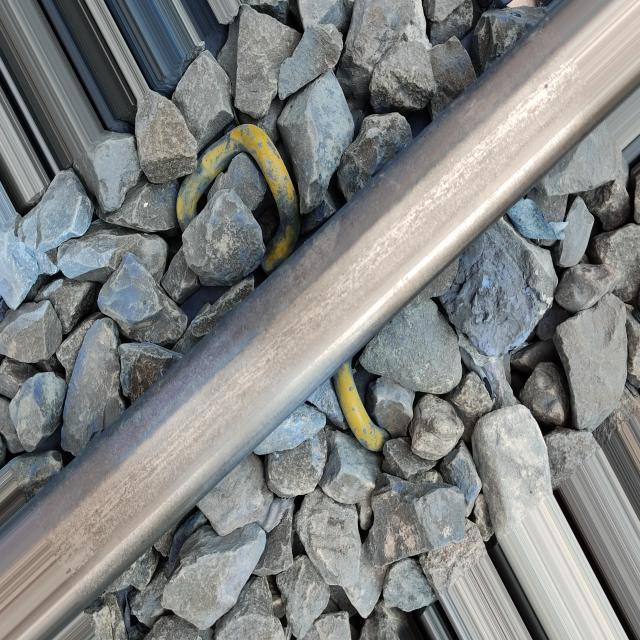Good Fasteners: (176, 124, 300, 274), (334, 363, 388, 451)
